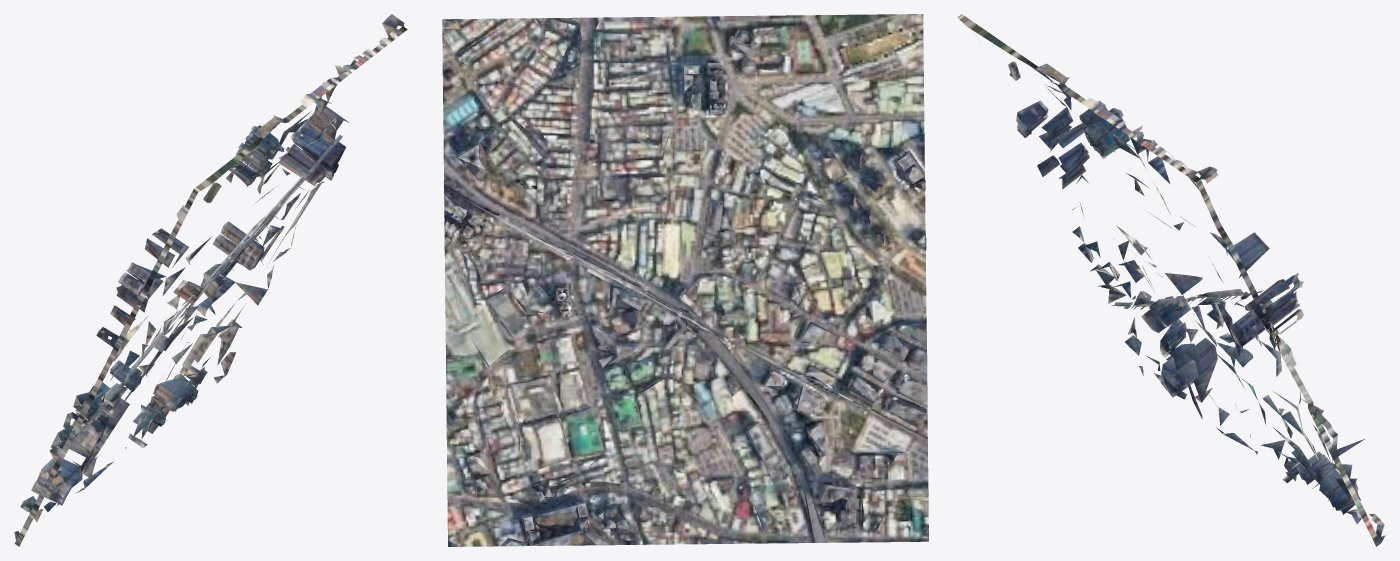
3 views of the same model, side by side, from view 1: azimuth 30°, elevation 25°; view 2: azimuth 150°, elevation 25°; view 3: azimuth 270°, elevation 25° (orthographic). The views are drawn at different scales.
Bounding box in the file's own units: 1226 × 1129 × 1041.
2 materials, 2 textured.
